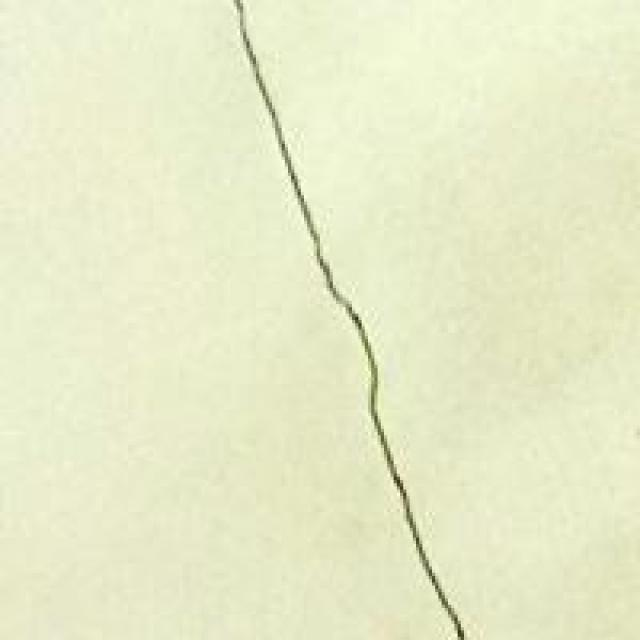crack: (170, 0, 480, 637)
